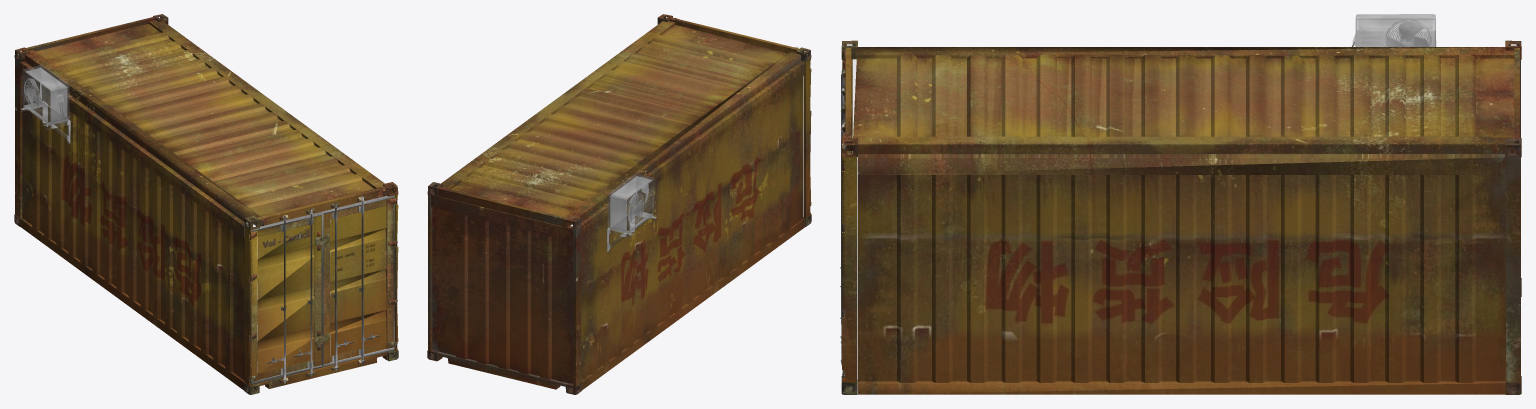
Rendered from container.glb.
3 renders of one model, left to right at view 1: azimuth 30°, elevation 25°; view 2: azimuth 150°, elevation 25°; view 3: azimuth 270°, elevation 25°, orthographic. The views are drawn at different scales.
Parts seen in each view (by area): view 1: air_conditioning; view 2: air_conditioning; view 3: air_conditioning.
Boxes of the visible parts, bbox=[...] form: air_conditioning: bbox=[14, 14, 398, 394]; air_conditioning: bbox=[427, 14, 811, 394]; air_conditioning: bbox=[840, 14, 1521, 394].
Bounding box in the file's own units: 2.57 × 2.56 × 6.06.
Materials: 2 (2 with a texture image).
